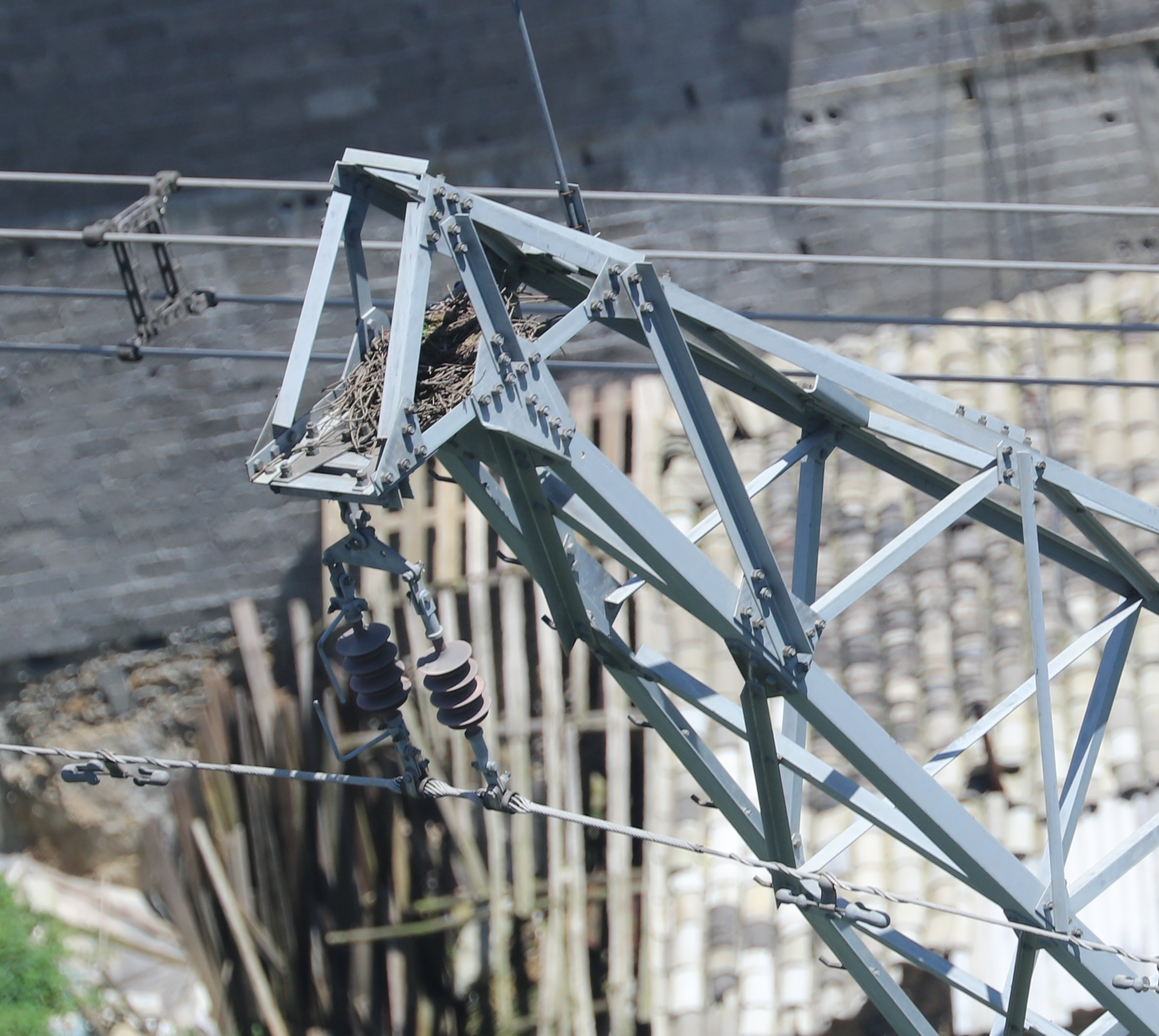damper: (768, 865, 896, 936), (54, 746, 177, 792)
nest: (303, 278, 564, 440)
